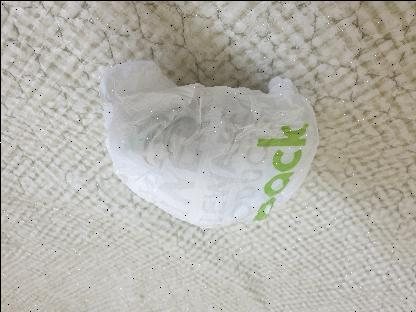Others: (90, 53, 324, 233)
